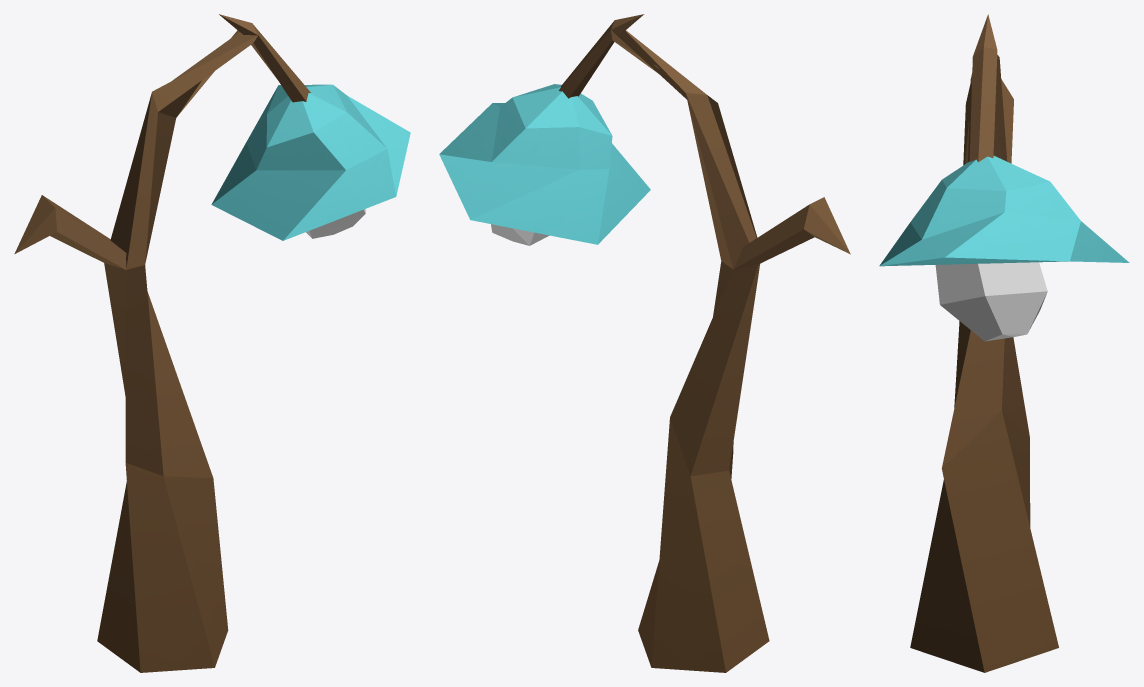
The model's file is Plant_Mushlight_01.fbx.
The picture shows the model from 3 angles, left to right: view 1: azimuth 30°, elevation 25°; view 2: azimuth 150°, elevation 25°; view 3: azimuth 270°, elevation 25°; orthographic projection. The views are drawn at different scales.
Visible parts, largest first — view 1: Plant_Mushlight; view 2: Plant_Mushlight; view 3: Plant_Mushlight.
Part boxes in pixels (x1,y1,x2,y2): Plant_Mushlight: (14, 14, 410, 672); Plant_Mushlight: (439, 14, 850, 672); Plant_Mushlight: (879, 14, 1129, 672).
Size of the model in its own units: 2.3 by 3.6 by 1.25.
